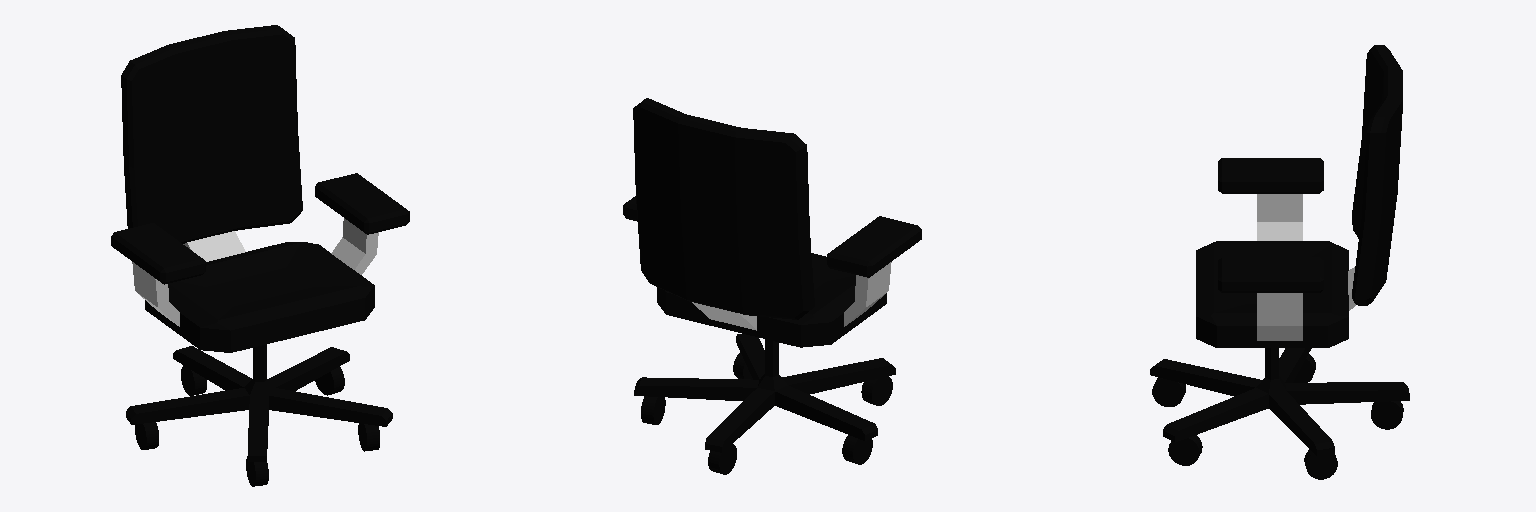
File: DeskChair.obj
3 renders of one model, left to right at view 1: azimuth 30°, elevation 25°; view 2: azimuth 150°, elevation 25°; view 3: azimuth 270°, elevation 25°, orthographic.
Visible parts, largest first — view 1: Cube.041_Cube.006; view 2: Cube.041_Cube.006; view 3: Cube.041_Cube.006.
Part boxes in pixels (left/top/right/bottom): Cube.041_Cube.006: left=111, top=25, right=409, bottom=486; Cube.041_Cube.006: left=623, top=98, right=921, bottom=474; Cube.041_Cube.006: left=1150, top=45, right=1409, bottom=479.
Size of the model in its own units: 1.44 by 1.93 by 1.3.